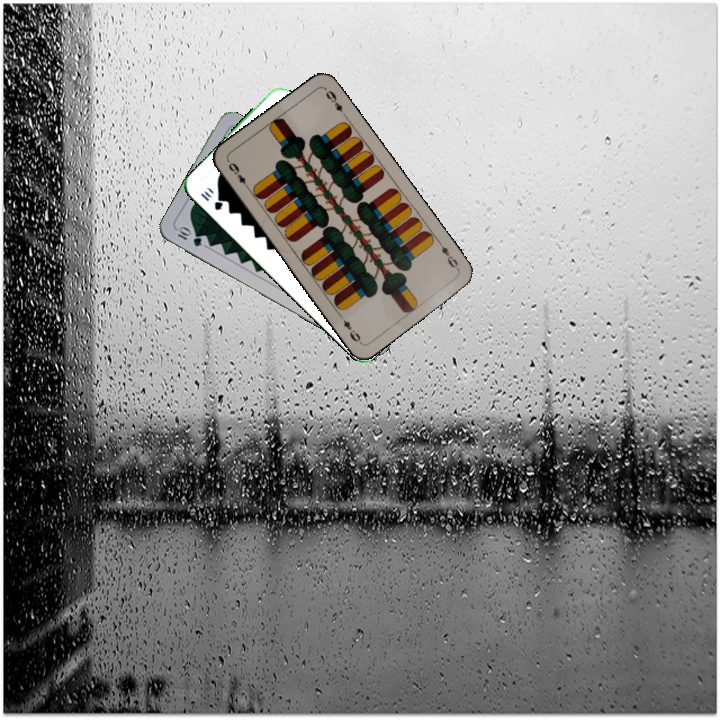E9: (223, 157, 252, 192), (434, 237, 462, 273)
G10: (173, 223, 204, 249), (197, 187, 226, 213)
